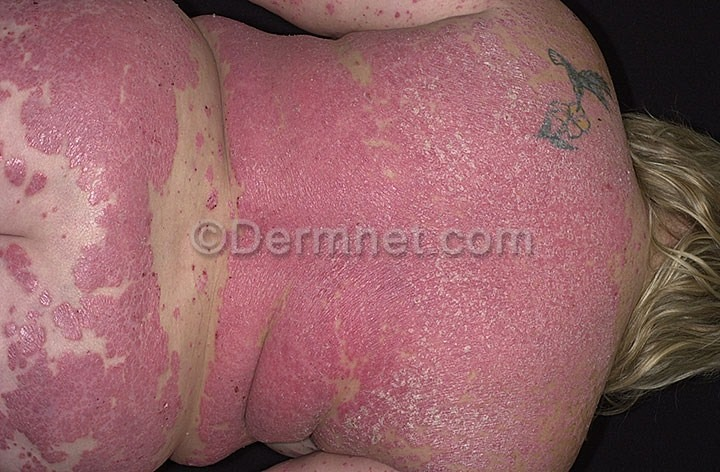Psoriasis: (207, 20, 633, 448), (5, 4, 187, 472)
